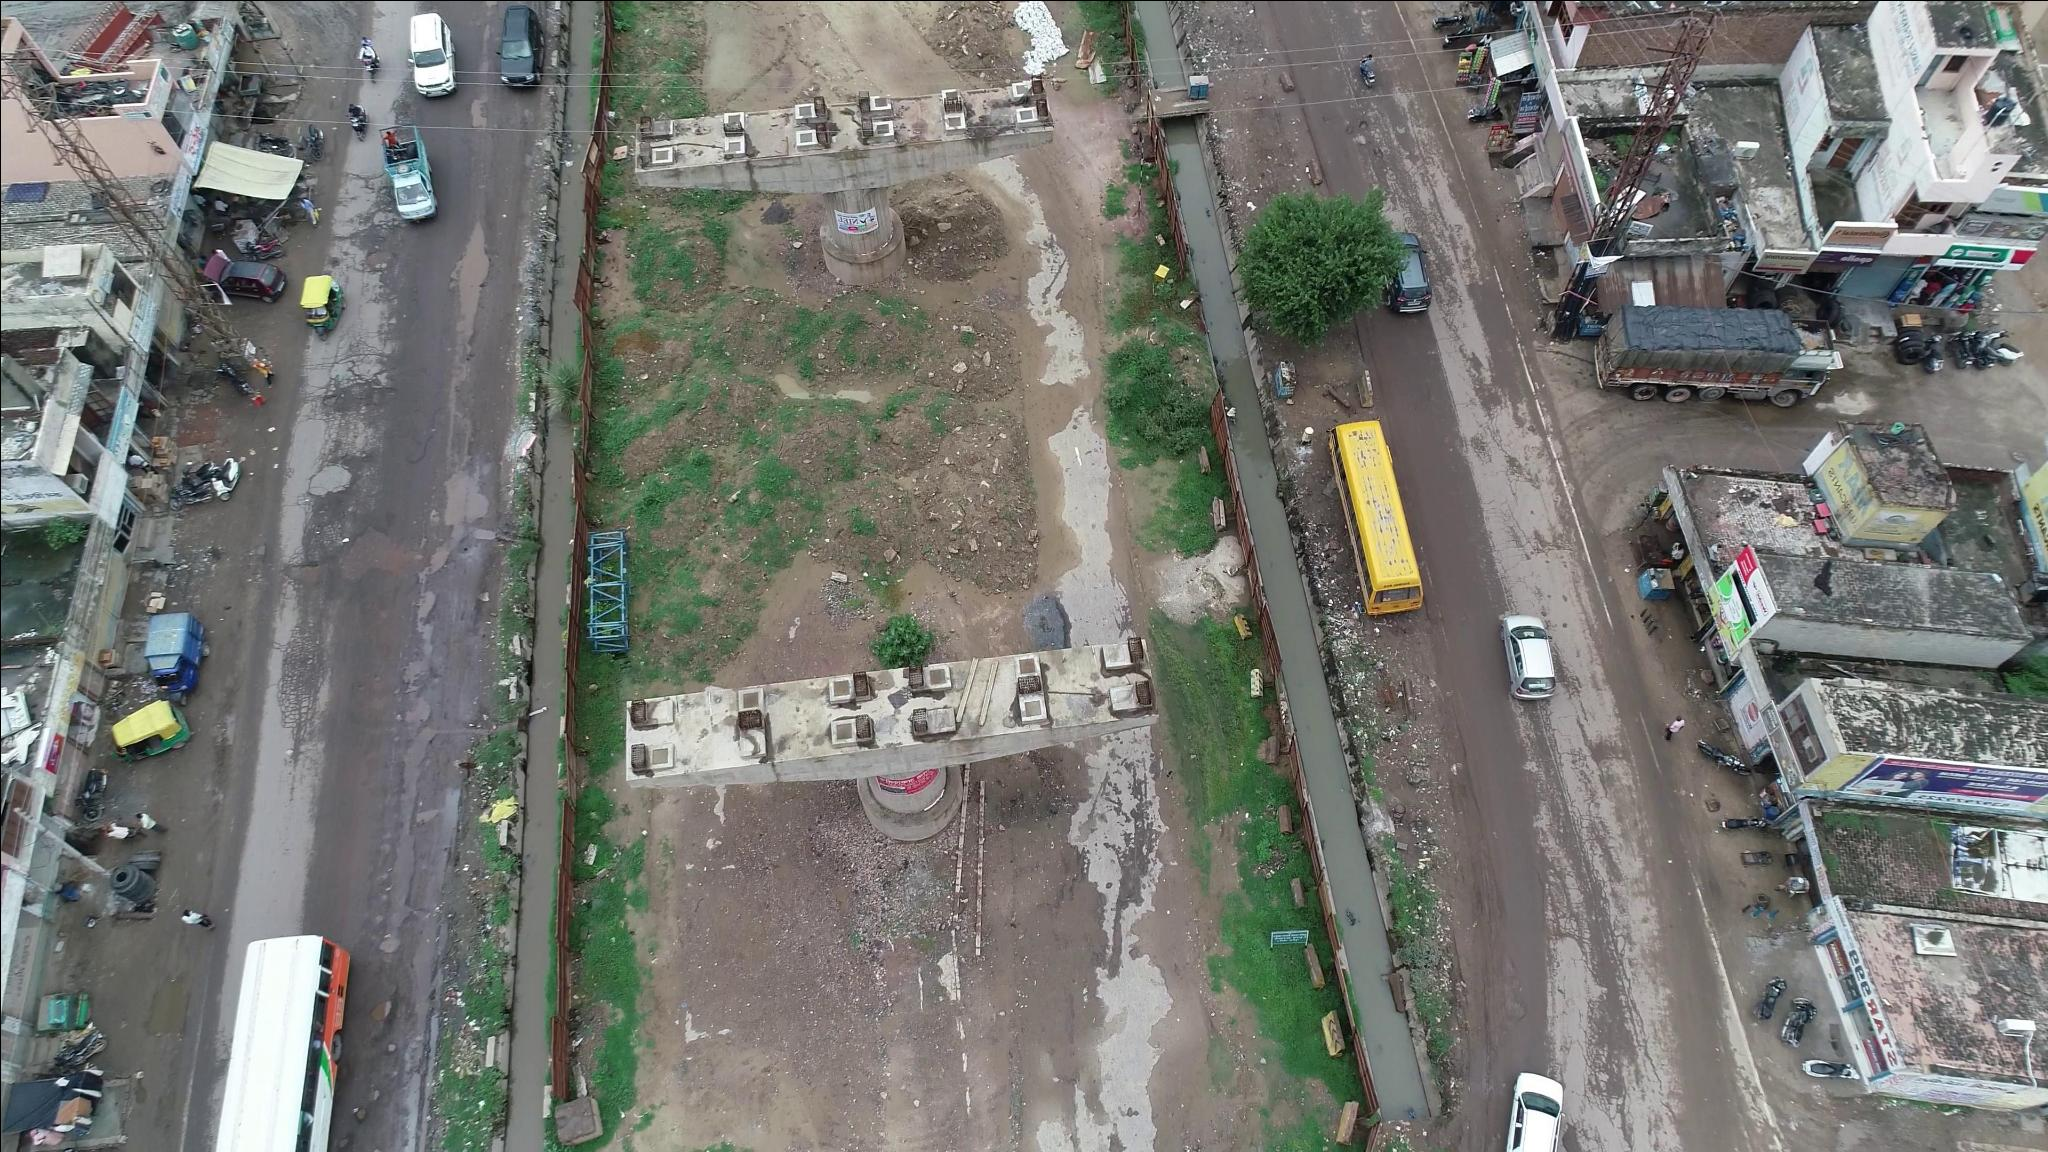Cracks: (1540, 743, 1625, 954), (309, 370, 381, 504), (270, 620, 333, 738)
Potholes: (349, 224, 423, 293), (1345, 104, 1401, 165)
